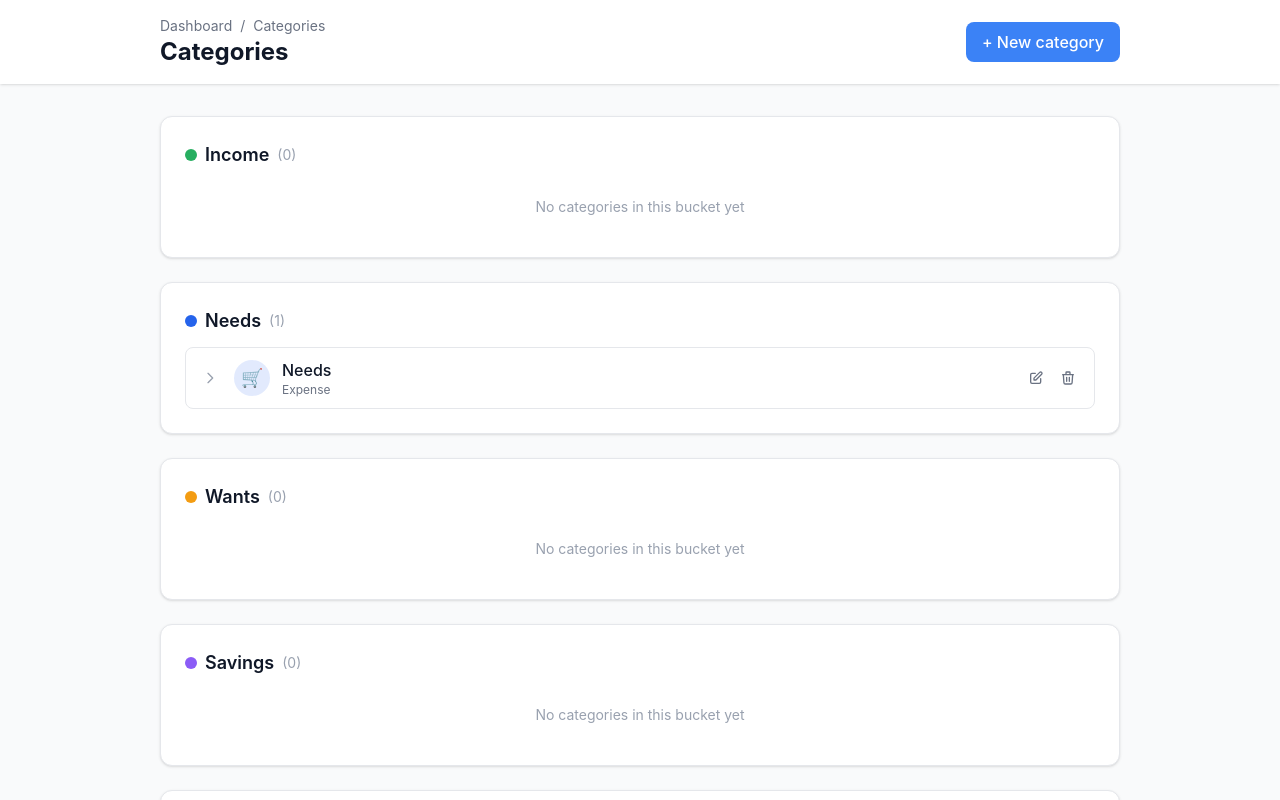
Test: CategoriesPage › expands a category to reveal its sub-category manager
Click the button named "Expand Needs": click(210, 378) x1=198 y1=366 x2=222 y2=390
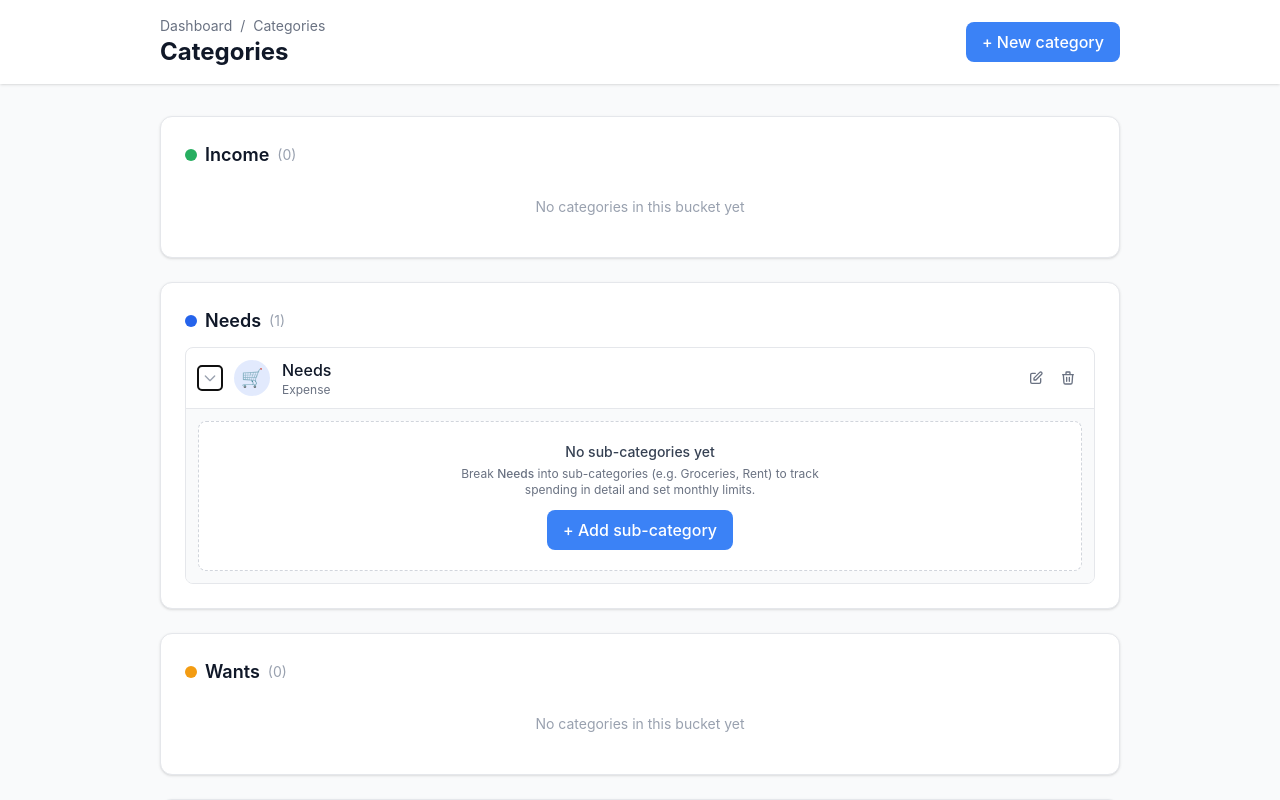
Expected: the text "No sub-categories yet" is shown, x1=565 y1=443 x2=715 y2=460
